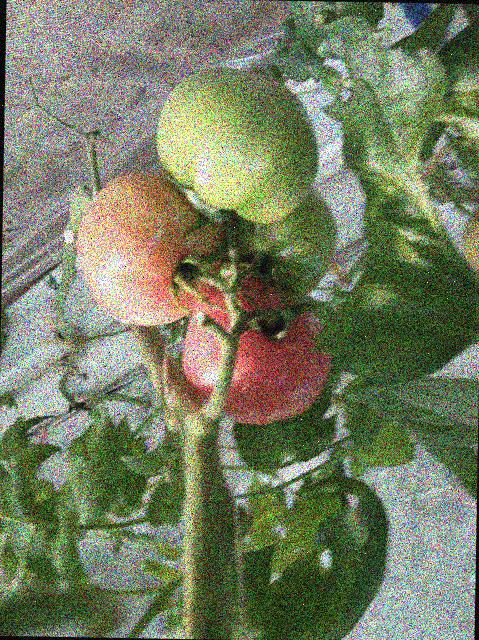b_fully_ripened: (180, 276, 333, 427)
b_green: (154, 66, 319, 225), (222, 187, 338, 298)
b_half_ripened: (73, 169, 231, 328), (461, 199, 479, 276)
